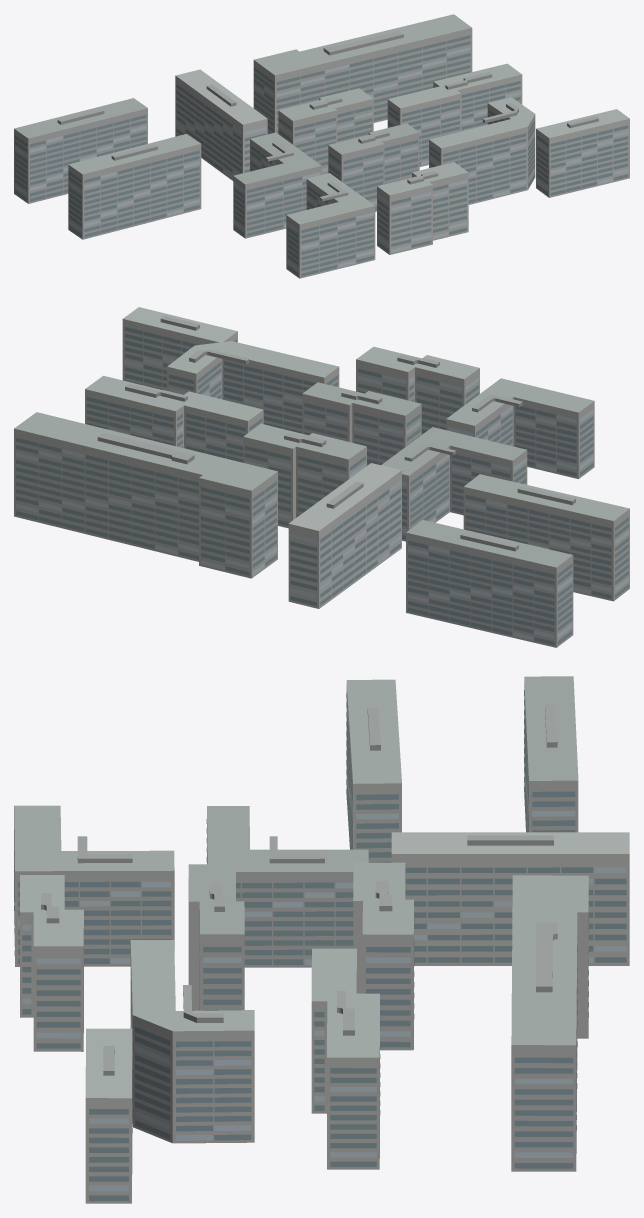
The model's file is apt-a15770801.glb.
3 views of the same model, one above another, from view 1: azimuth 30°, elevation 25°; view 2: azimuth 150°, elevation 25°; view 3: azimuth 270°, elevation 25° (orthographic). The views are drawn at different scales.
Visible parts, largest first — view 1: apt-a15770801; view 2: apt-a15770801; view 3: apt-a15770801.
Boxes of the visible parts, x1=… form: apt-a15770801: x1=14, y1=14, x2=629, y2=278; apt-a15770801: x1=14, y1=307, x2=629, y2=647; apt-a15770801: x1=14, y1=676, x2=629, y2=1203.
Bounding box in the file's own units: 256 × 38.25 × 162.
